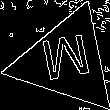M_S: (37, 32, 94, 90)
